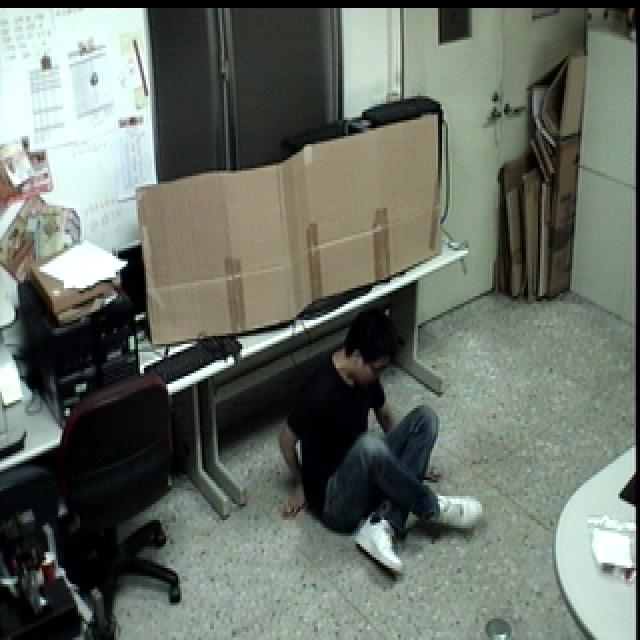sit: (273, 300, 488, 582)
